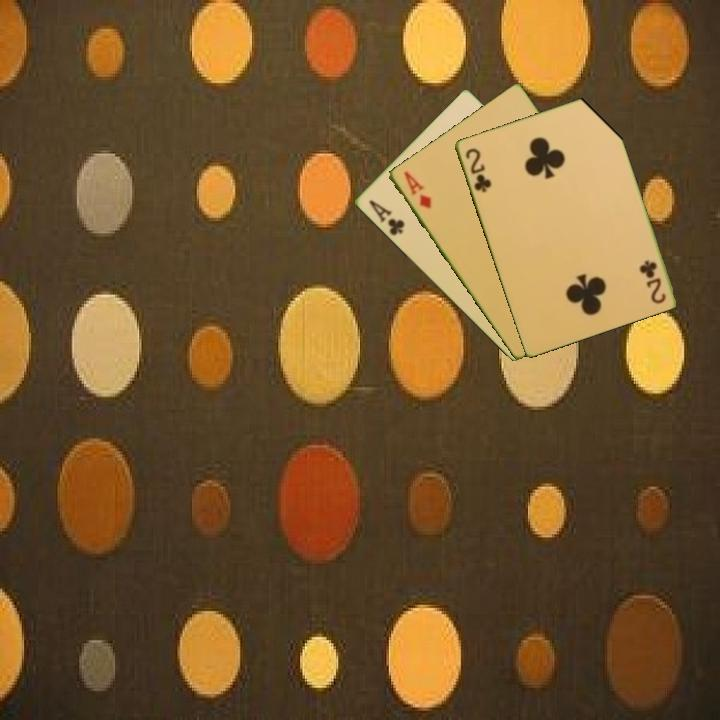2c: (462, 144, 494, 195), (637, 257, 668, 306)
Ac: (365, 196, 407, 238)
Ad: (400, 167, 434, 212)
